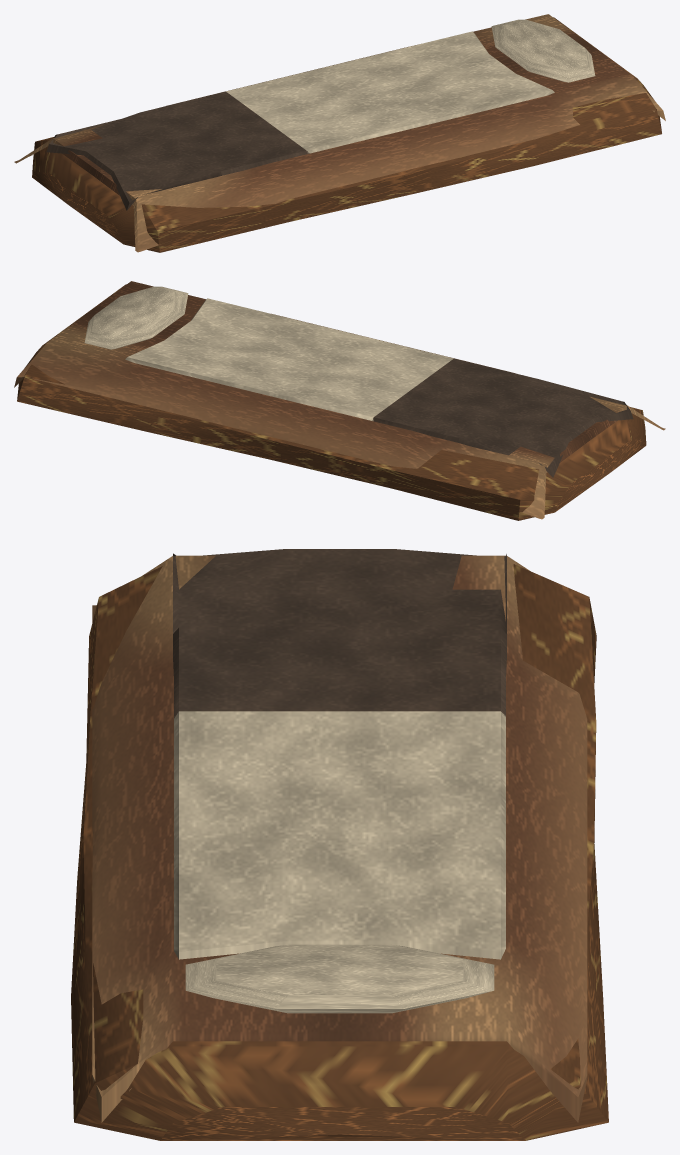
File: bed_hide_pile.glb
3 views of the same model, one above another, from view 1: azimuth 30°, elevation 25°; view 2: azimuth 150°, elevation 25°; view 3: azimuth 270°, elevation 25° (orthographic). The views are drawn at different scales.
Parts seen in each view (by area): view 1: bed_hide_pile; view 2: bed_hide_pile; view 3: bed_hide_pile.
Part boxes in pixels (<box>): bed_hide_pile: <box>14,14,665,252</box>; bed_hide_pile: <box>14,281,665,520</box>; bed_hide_pile: <box>71,549,608,1140</box>.
Size of the model in its own units: 2.06 by 0.187 by 0.8695.
Materials: 1 (1 with a texture image).
